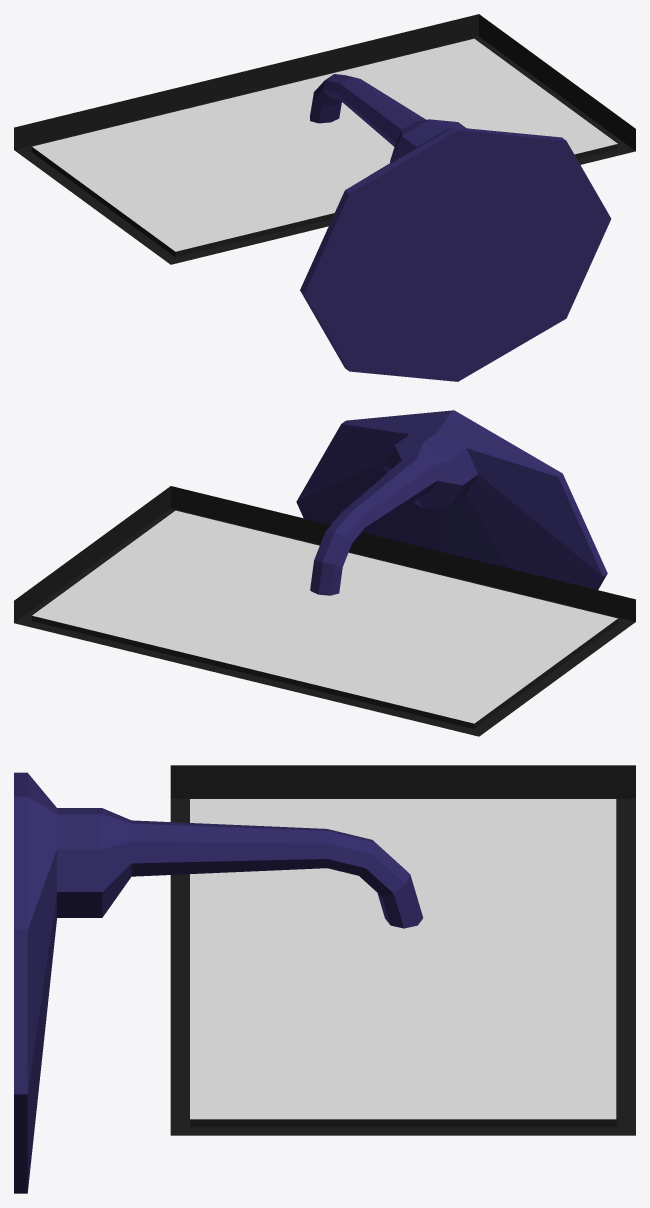
The model's file is computer_screen.fbx.
The picture shows the model from 3 angles, top to bottom: view 1: azimuth 30°, elevation 25°; view 2: azimuth 150°, elevation 25°; view 3: azimuth 270°, elevation 25°; orthographic projection. The views are drawn at different scales.
Parts seen in each view (by area): view 1: base, screen_surface, bezel; view 2: screen_surface, base, bezel; view 3: screen_surface, bezel, base.
Boxes of the visible parts, x1,y1,x2,y2 form: base: [300, 74, 611, 381]; screen_surface: [32, 38, 617, 251]; bezel: [14, 14, 635, 264]; screen_surface: [32, 510, 617, 723]; base: [296, 410, 607, 595]; bezel: [14, 486, 635, 736]; screen_surface: [190, 799, 616, 1119]; bezel: [170, 765, 635, 1135]; base: [14, 772, 422, 1193].
Size of the model in its own units: 336 by 174 by 263.
